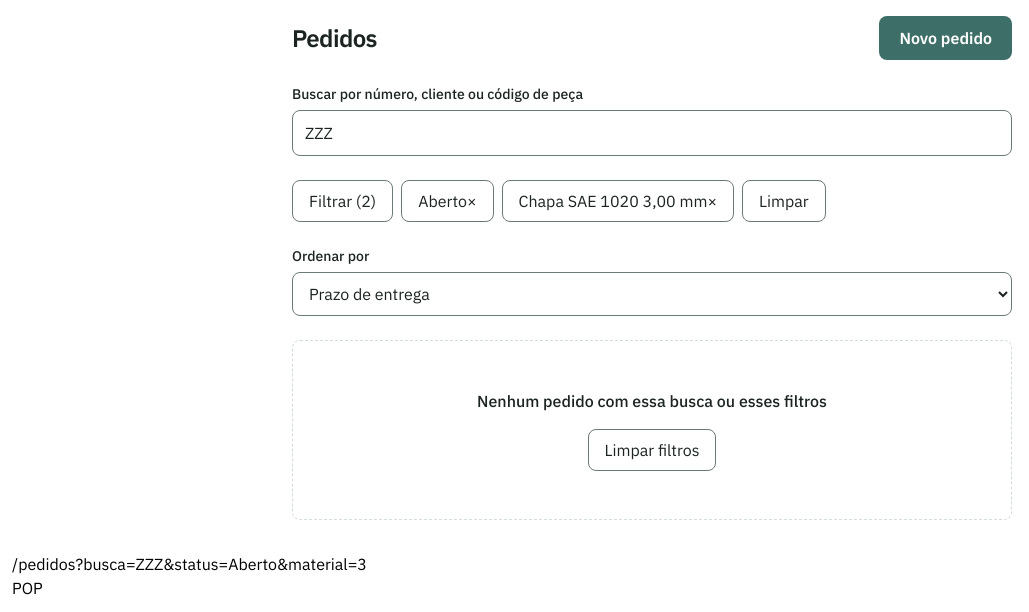
Test case: PedidosPage › o vazio de filtro tem Limpar filtros, que zera a busca e a selecao
Click the button "Limpar filtros" at (652, 450), box [588,429,716,471]
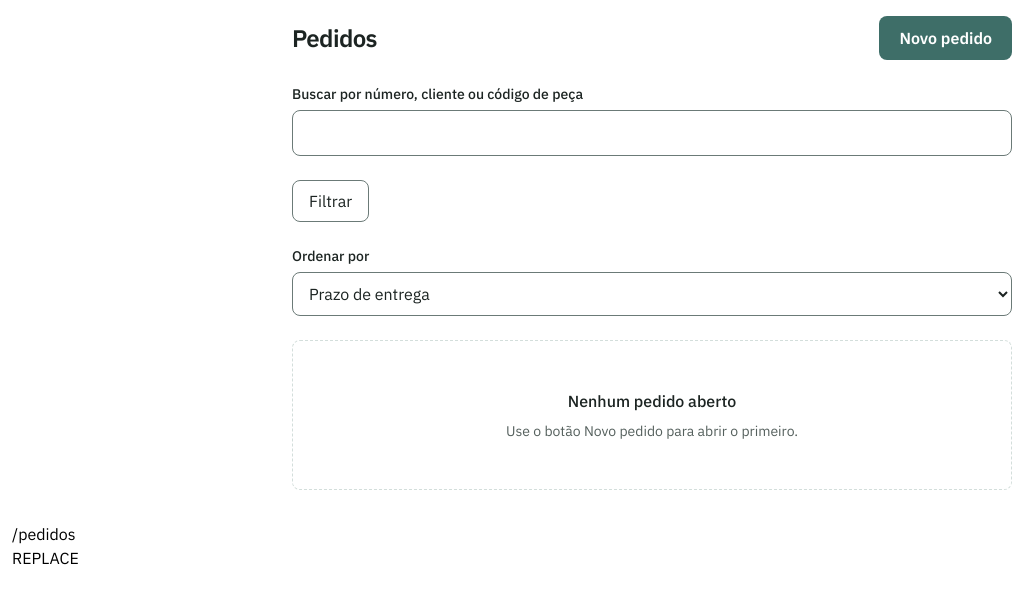
Expected: the text named "localizacao" reads "/pedidos", [12,524,76,544]
Expected: the search field labelled "Buscar por número, cliente ou código de peça" is empty, [292,110,1012,156]
